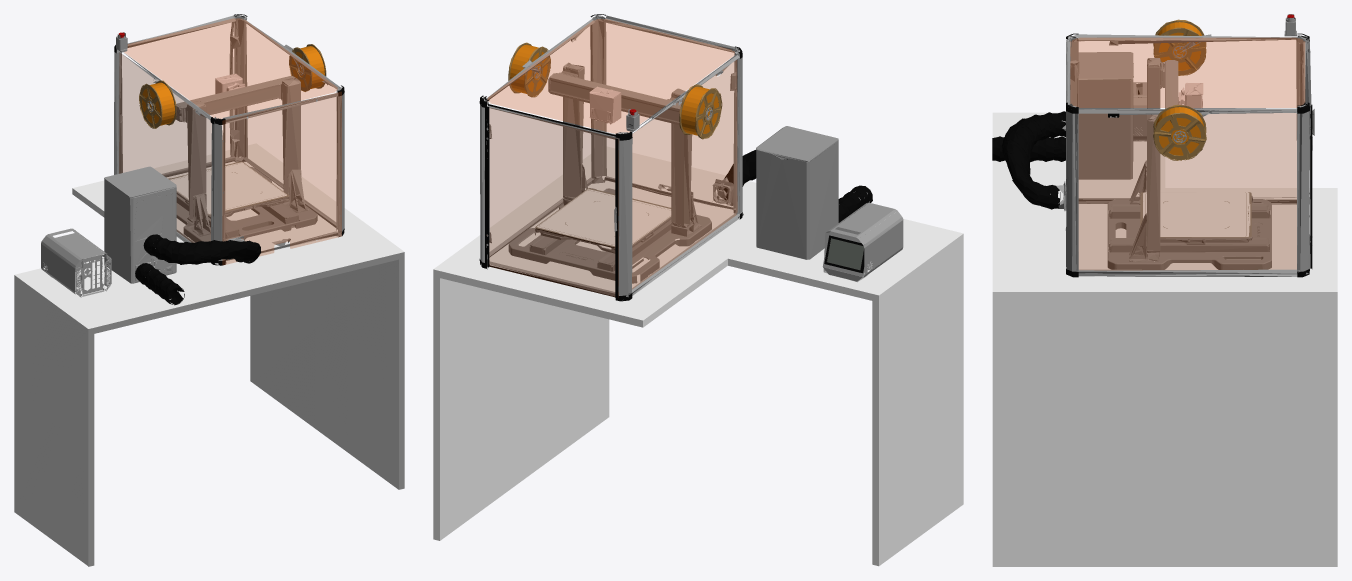
File: mex.glb
3 renders of one model, left to right at view 1: azimuth 30°, elevation 25°; view 2: azimuth 150°, elevation 25°; view 3: azimuth 270°, elevation 25°, orthographic. The views are drawn at different scales.
Parts seen in each view (by area): view 1: 9_Table-1, 2_ArtisanHousing-1.002, 2_ArtisanHousing-1.001, 4_AirPurifier-1.411, 1_ArtisanPrinter-1.011, 3_ArtisanICU-1.1837, 10_AirTube-1.001, 15_MagneticPlate-1.001, 1_ArtisanPrinter-1.006, 1_ArtisanPrinter-1.013, 10_AirTube-1, Cylinder.001 (+5 smaller); view 2: 9_Table-1, 2_ArtisanHousing-1.002, 2_ArtisanHousing-1.001, 4_AirPurifier-1.411, 1_ArtisanPrinter-1.011, 15_MagneticPlate-1.001, 1_ArtisanPrinter-1.006, 3_ArtisanICU-1.1837, 1_ArtisanPrinter-1.013, 2_ArtisanHousing-1.008, 1_ArtisanPrinter-1.008, Cylinder.001 (+6 smaller); view 3: 9_Table-1, 2_ArtisanHousing-1.002, 2_ArtisanHousing-1.001, 4_AirPurifier-1.411, 15_MagneticPlate-1.001, 1_ArtisanPrinter-1.006, 1_ArtisanPrinter-1.011, 10_AirTube-1.001, 1_ArtisanPrinter-1.008, 8_Filament Spool 1kg-2, 8_Filament Spool 1kg-1, 10_AirTube-1 (+7 smaller).
Part boxes in pixels (left/top/right/bottom): 9_Table-1: left=14, top=143, right=404, bottom=566; 2_ArtisanHousing-1.002: left=119, top=18, right=341, bottom=264; 2_ArtisanHousing-1.001: left=114, top=15, right=344, bottom=265; 4_AirPurifier-1.411: left=104, top=166, right=176, bottom=283; 1_ArtisanPrinter-1.011: left=183, top=78, right=305, bottom=234; 3_ArtisanICU-1.1837: left=41, top=228, right=111, bottom=297; 10_AirTube-1.001: left=143, top=234, right=261, bottom=264; 15_MagneticPlate-1.001: left=169, top=162, right=286, bottom=214; 1_ArtisanPrinter-1.006: left=176, top=167, right=317, bottom=242; 1_ArtisanPrinter-1.013: left=175, top=76, right=295, bottom=121; 10_AirTube-1: left=135, top=263, right=184, bottom=305; Cylinder.001: left=142, top=82, right=174, bottom=125; 9_Table-1: left=433, top=146, right=963, bottom=566; 2_ArtisanHousing-1.002: left=486, top=19, right=737, bottom=297; 2_ArtisanHousing-1.001: left=480, top=15, right=743, bottom=300; 4_AirPurifier-1.411: left=756, top=126, right=838, bottom=259; 1_ArtisanPrinter-1.011: left=559, top=62, right=698, bottom=227; 15_MagneticPlate-1.001: left=537, top=189, right=671, bottom=246; 1_ArtisanPrinter-1.006: left=508, top=190, right=711, bottom=283; 3_ArtisanICU-1.1837: left=822, top=202, right=903, bottom=282; 1_ArtisanPrinter-1.013: left=548, top=73, right=681, bottom=125; 2_ArtisanHousing-1.008: left=479, top=14, right=742, bottom=301; 1_ArtisanPrinter-1.008: left=529, top=188, right=672, bottom=271; Cylinder.001: left=681, top=86, right=718, bottom=135; 9_Table-1: left=992, top=112, right=1337, bottom=566; 2_ArtisanHousing-1.002: left=1070, top=38, right=1304, bottom=270; 2_ArtisanHousing-1.001: left=1056, top=34, right=1314, bottom=276; 4_AirPurifier-1.411: left=1062, top=52, right=1133, bottom=179; 15_MagneticPlate-1.001: left=1143, top=192, right=1250, bottom=236; 1_ArtisanPrinter-1.006: left=1107, top=199, right=1271, bottom=269; 1_ArtisanPrinter-1.011: left=1129, top=58, right=1164, bottom=258; 10_AirTube-1.001: left=1002, top=111, right=1065, bottom=209; 1_ArtisanPrinter-1.008: left=1110, top=204, right=1269, bottom=257; 8_Filament Spool 1kg-2: left=1153, top=104, right=1206, bottom=160; 8_Filament Spool 1kg-1: left=1153, top=19, right=1206, bottom=75; 10_AirTube-1: left=992, top=136, right=1065, bottom=161.
Bounding box in the file's own units: 1.6 × 1.93 × 1.3.
